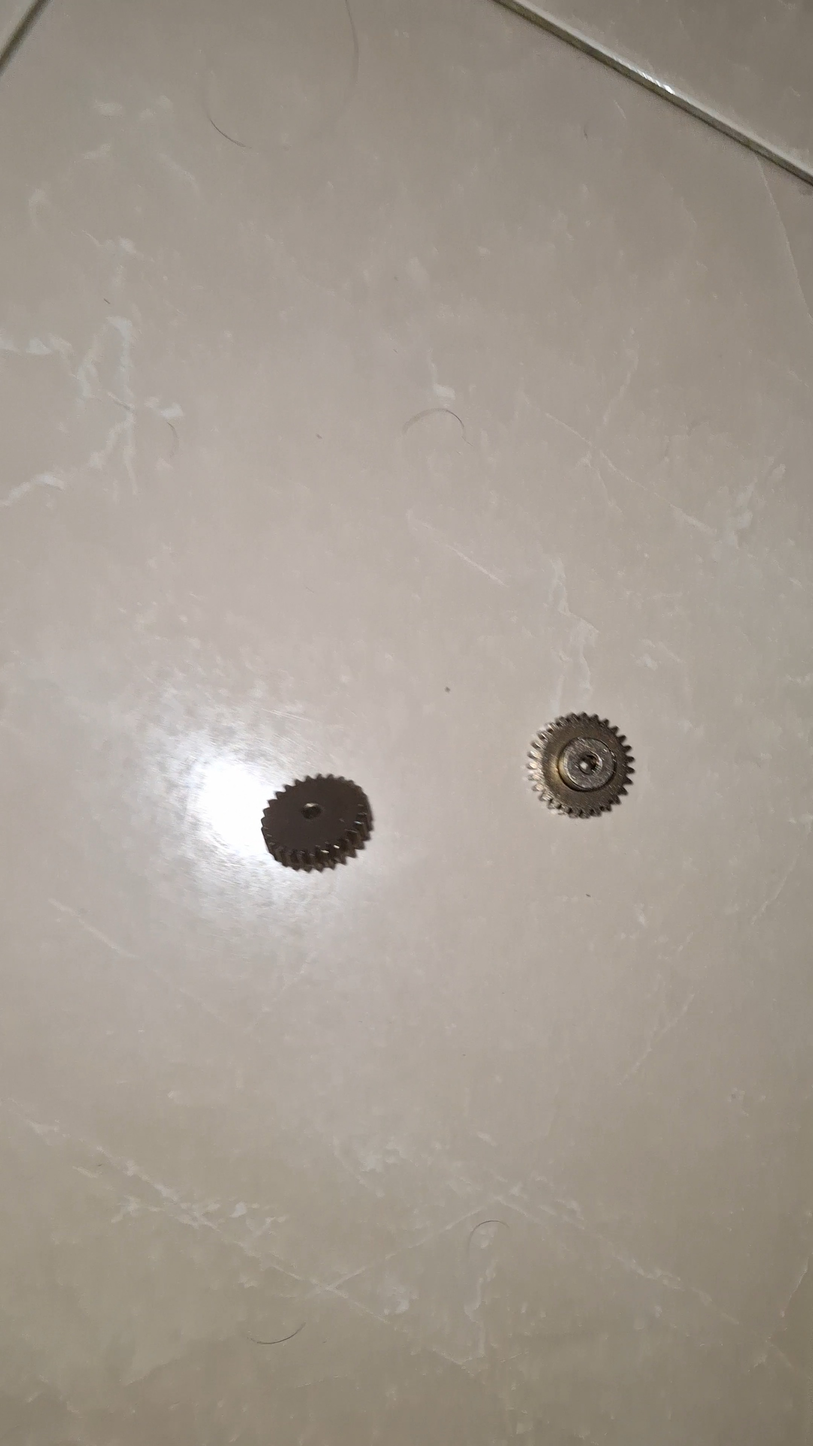spur gear: (528, 714, 633, 816), (263, 775, 371, 871)
